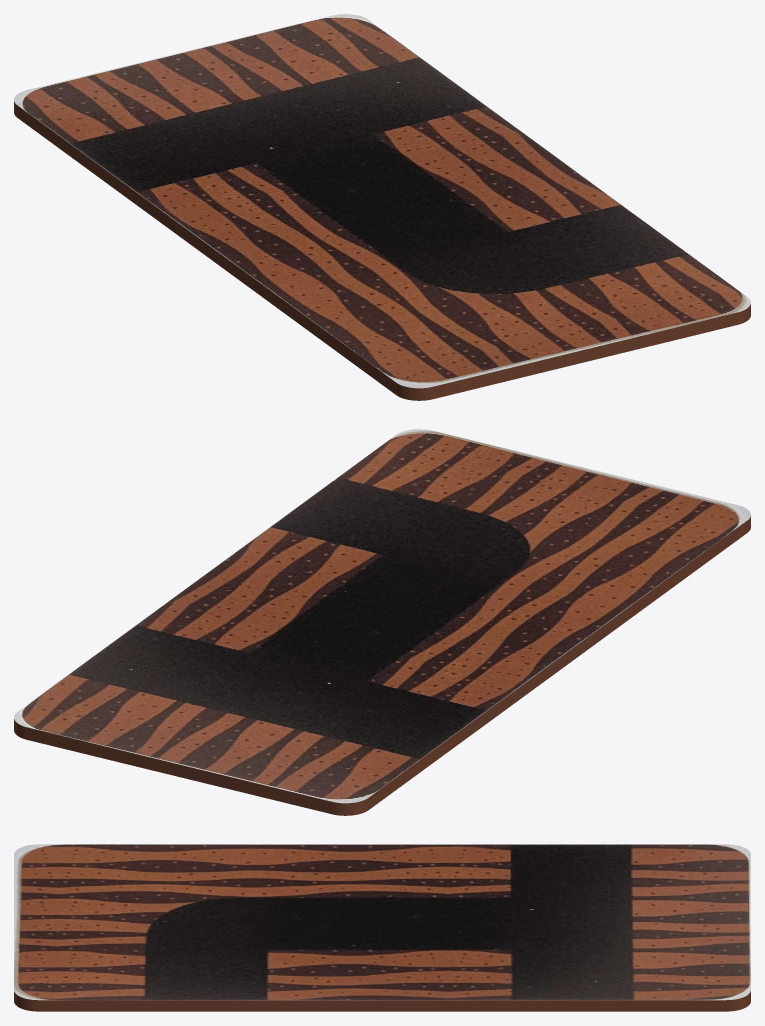
The picture shows the model from 3 angles, top to bottom: view 1: azimuth 30°, elevation 25°; view 2: azimuth 150°, elevation 25°; view 3: azimuth 270°, elevation 25°; orthographic projection. The views are drawn at different scales.
Parts seen in each view (by area): view 1: g18; view 2: g18; view 3: g18.
Boxes of the visible parts, box(x1,y1,x2,y2) form: g18: box(14, 14, 750, 400); g18: box(14, 429, 750, 815); g18: box(14, 844, 750, 1011).
Bounding box in the file's own units: 0.044 × 0.0015 × 0.088.
3 materials, 2 textured.
